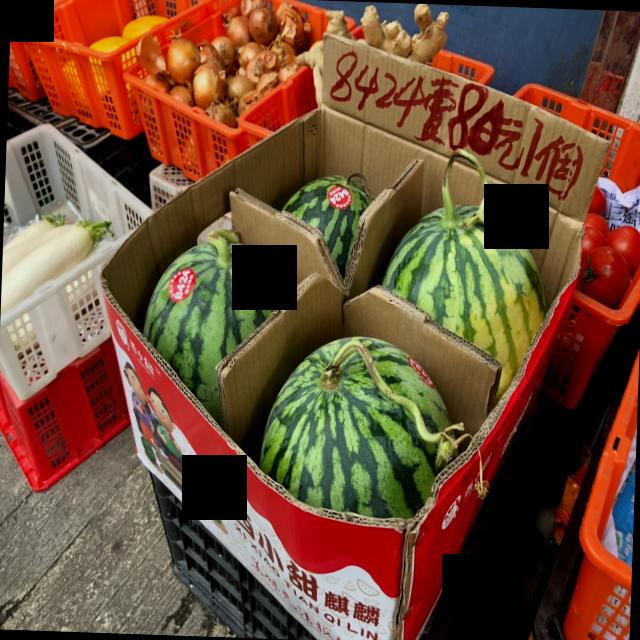watermelon: (254, 337, 454, 523), (382, 202, 545, 397), (143, 221, 294, 427), (280, 176, 375, 279)
